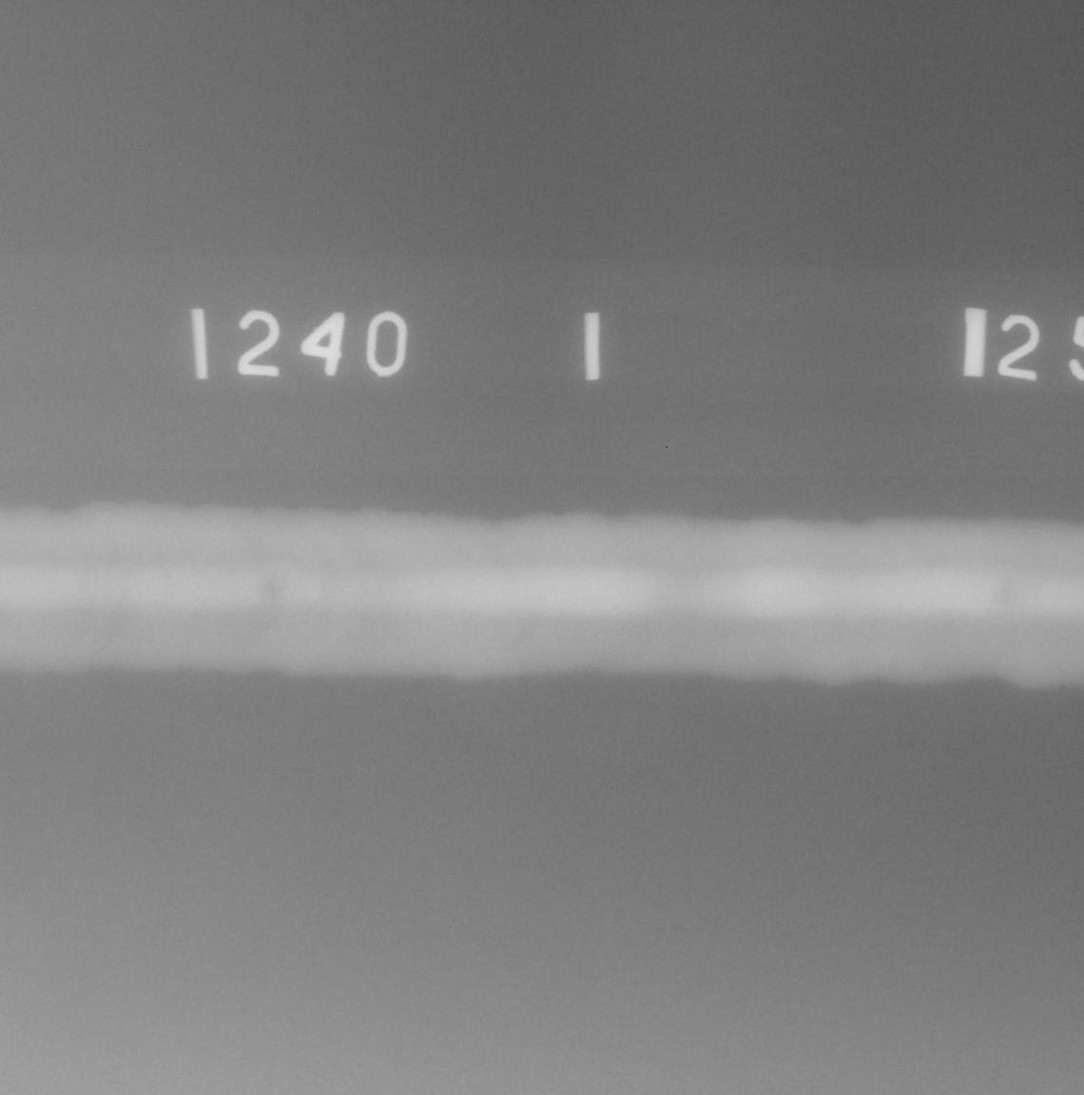Pore/Porosity: (165, 574, 171, 578)
